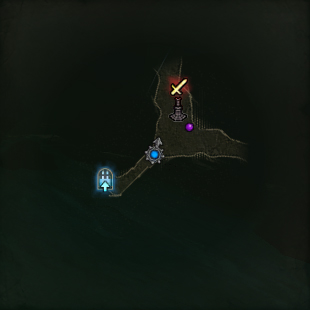PowerPylon: (172, 77, 187, 120)
